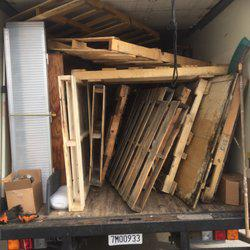wood: (117, 87, 230, 206), (9, 2, 161, 42), (54, 36, 213, 67), (59, 72, 89, 215)
